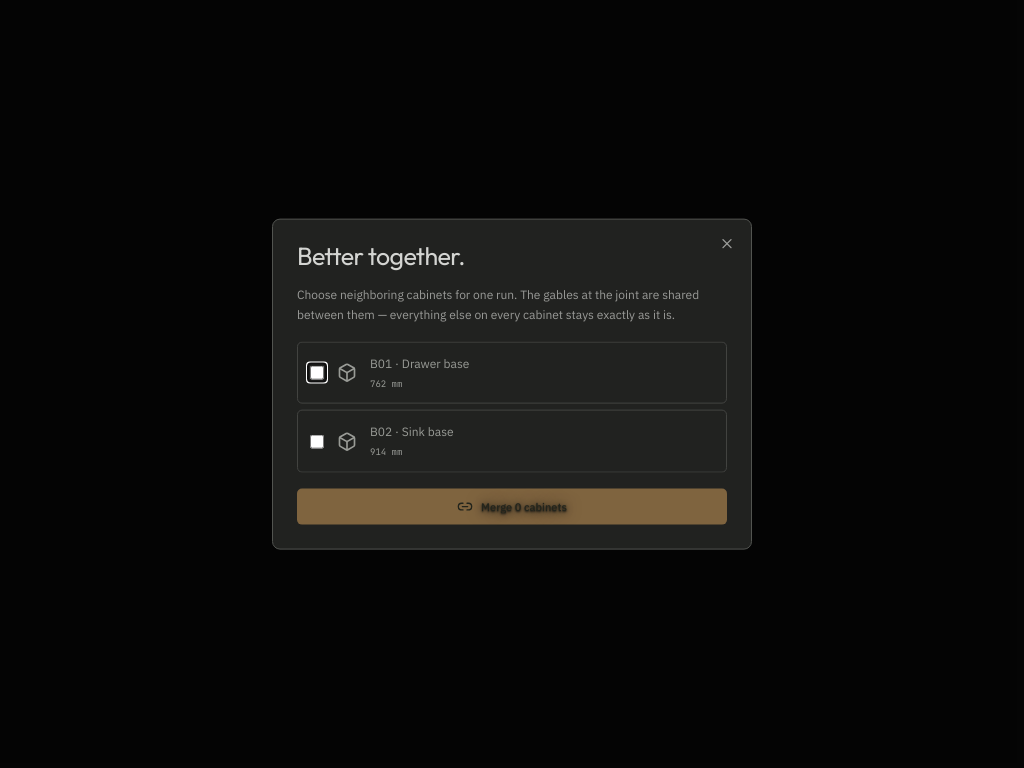
it: what the merge panel promises › explains a refusal instead of silently merging nothing
What coordinates should you click on to do the following:
click the checkbox labelled "B01 · Drawer base 762 mm"
I would click on:
 (317, 373)
Its box is [310,366,324,380].
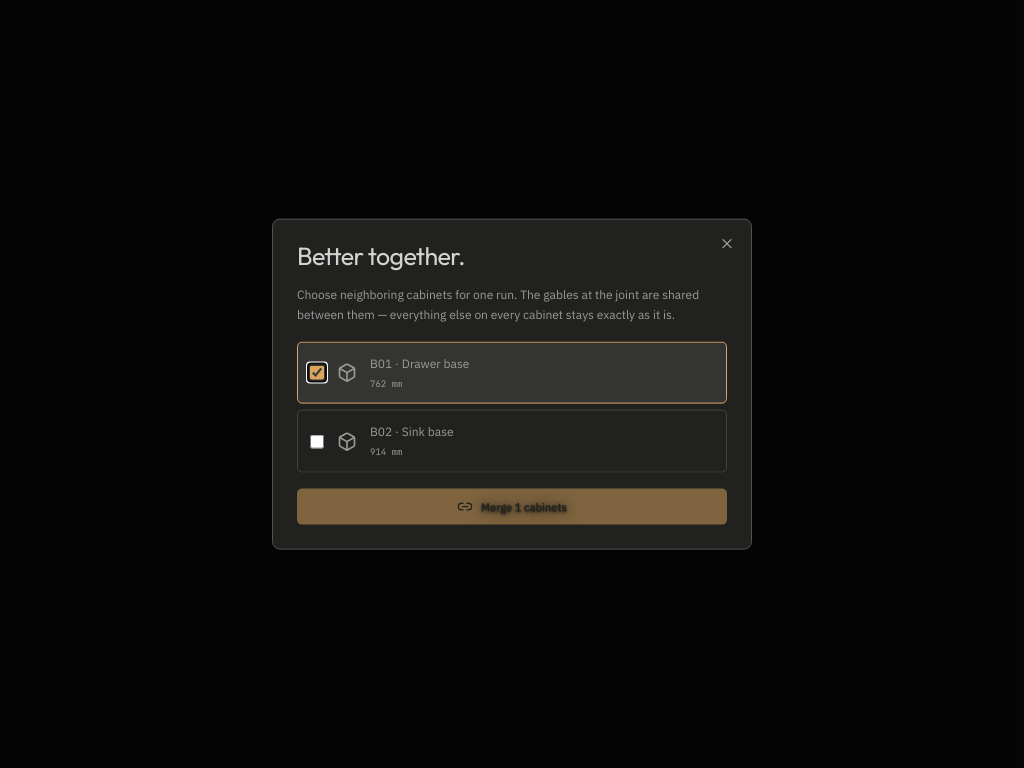
What coordinates should you click on to do the following:
click the checkbox labelled "B02 · Sink base 914 mm"
I would click on:
 (317, 441)
Its box is [310,434,324,448].
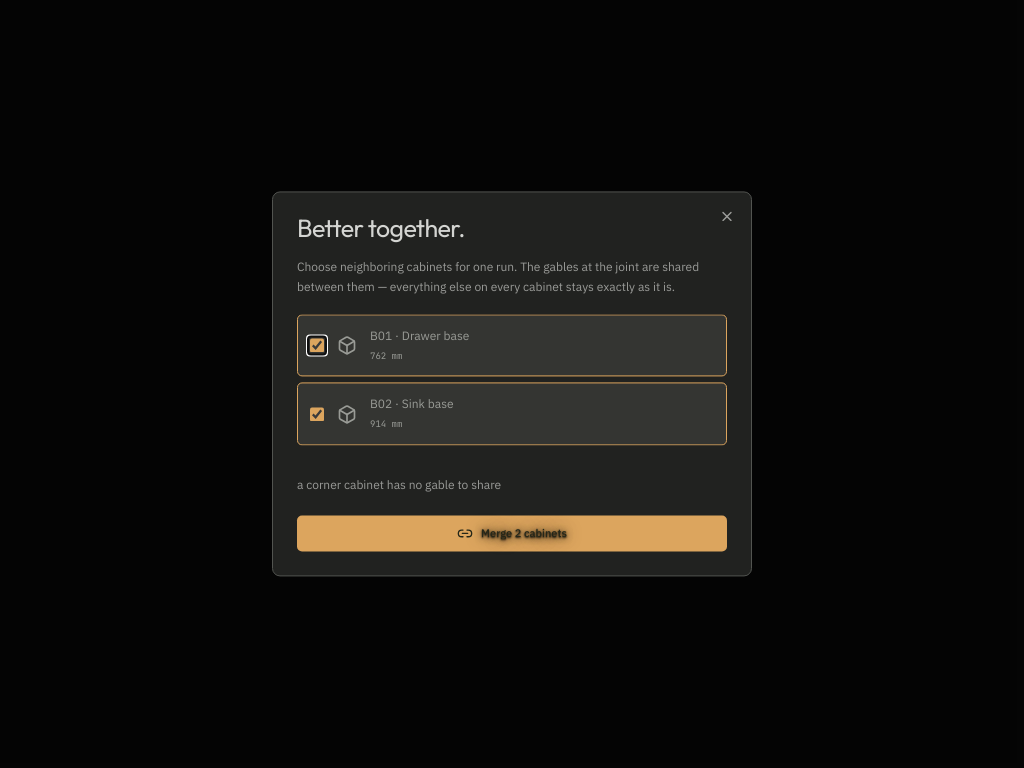
Expected: the text "no gable to share" is shown, [297,477,501,492]
